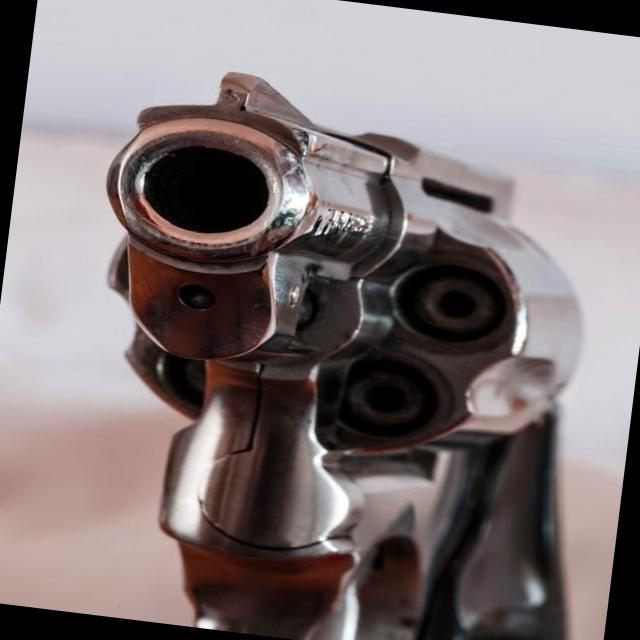Gun: (108, 72, 581, 640)
